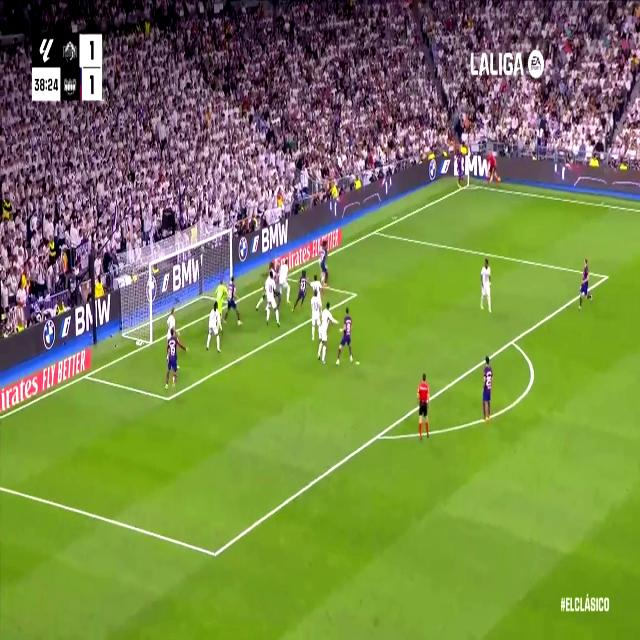bigarea_bottom_inner: (208, 538, 222, 570)
bigarea_top_inner: (602, 268, 610, 285)
bottom_arc_area_intersection: (372, 422, 384, 448)
smallarea_bottom_inner: (164, 389, 172, 409)
smallarea_bottom_outter: (81, 366, 91, 384)
smallarea_top_inner: (350, 284, 360, 303)
top_arc_area_intersection: (508, 331, 516, 350)
